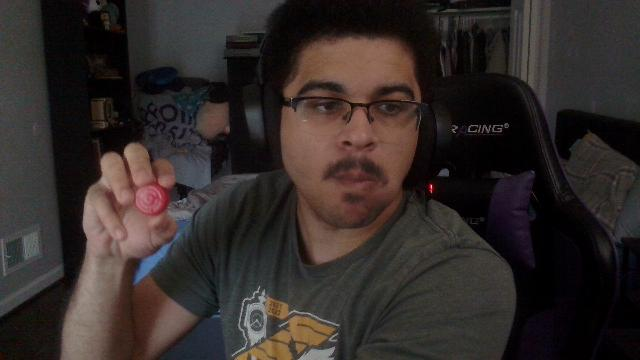cap: (136, 182, 170, 217)
